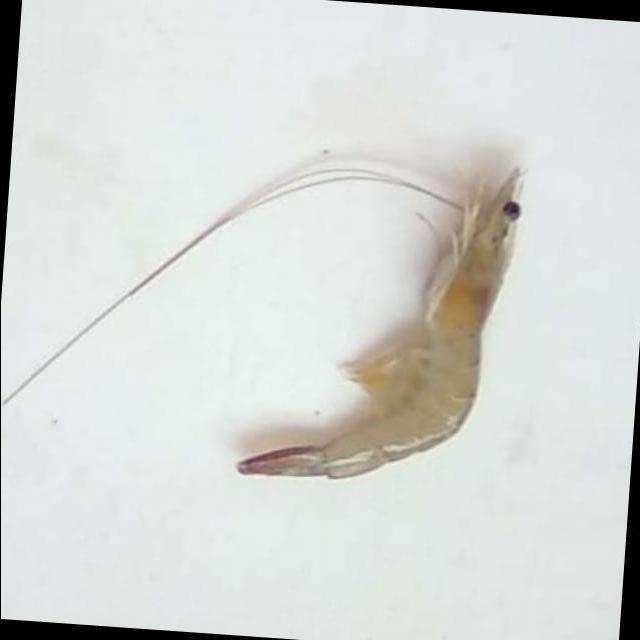shrimp: (237, 168, 523, 479)
